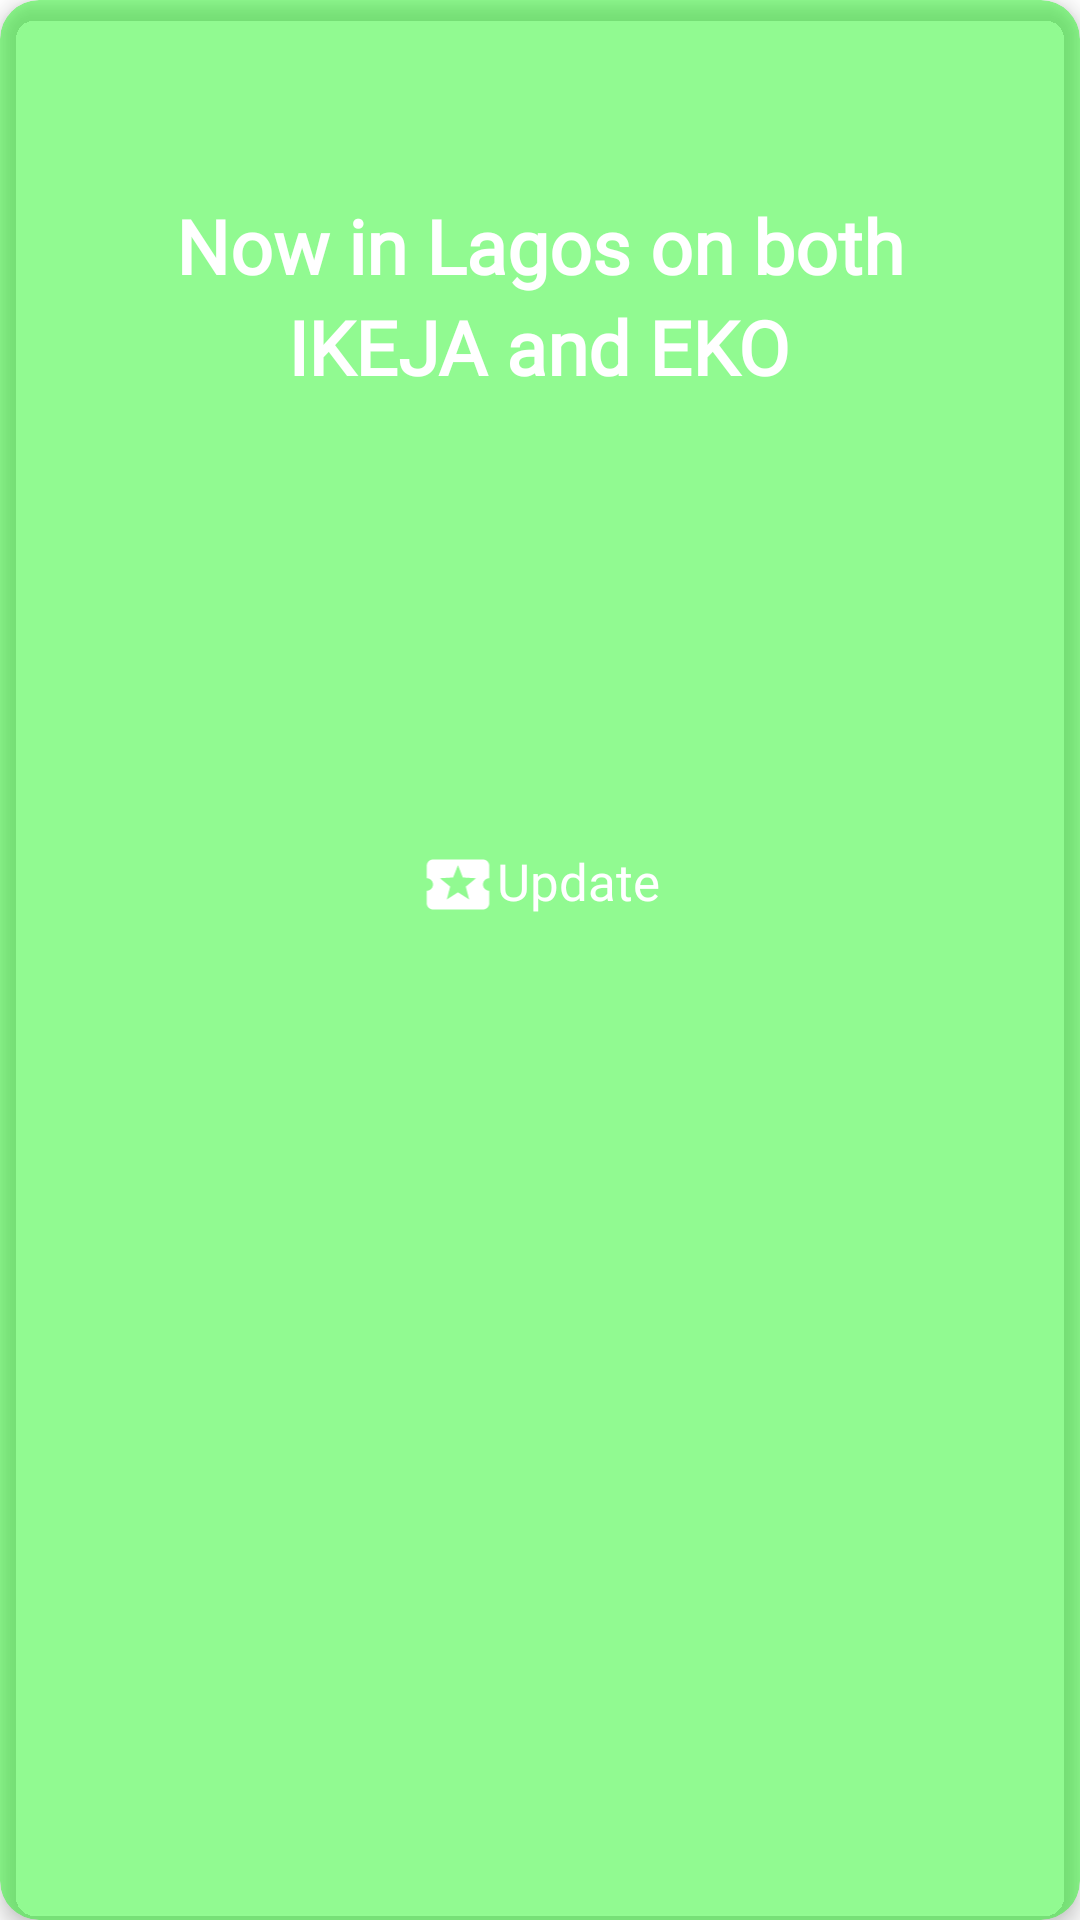

Locate icon controls on the screen. Image size 1080 × 1920, boxes as (x1, y1, x2, y2).
local activity: (426, 859, 490, 910)
